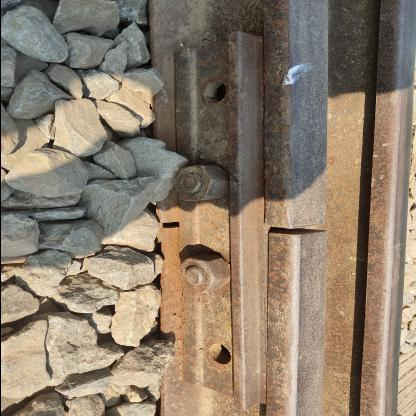Defective 3: (141, 13, 267, 416)
